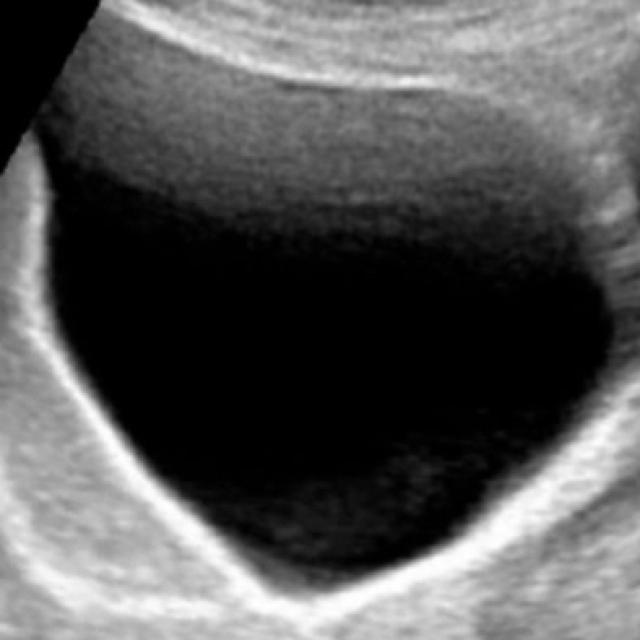bladder: (27, 0, 626, 623)
